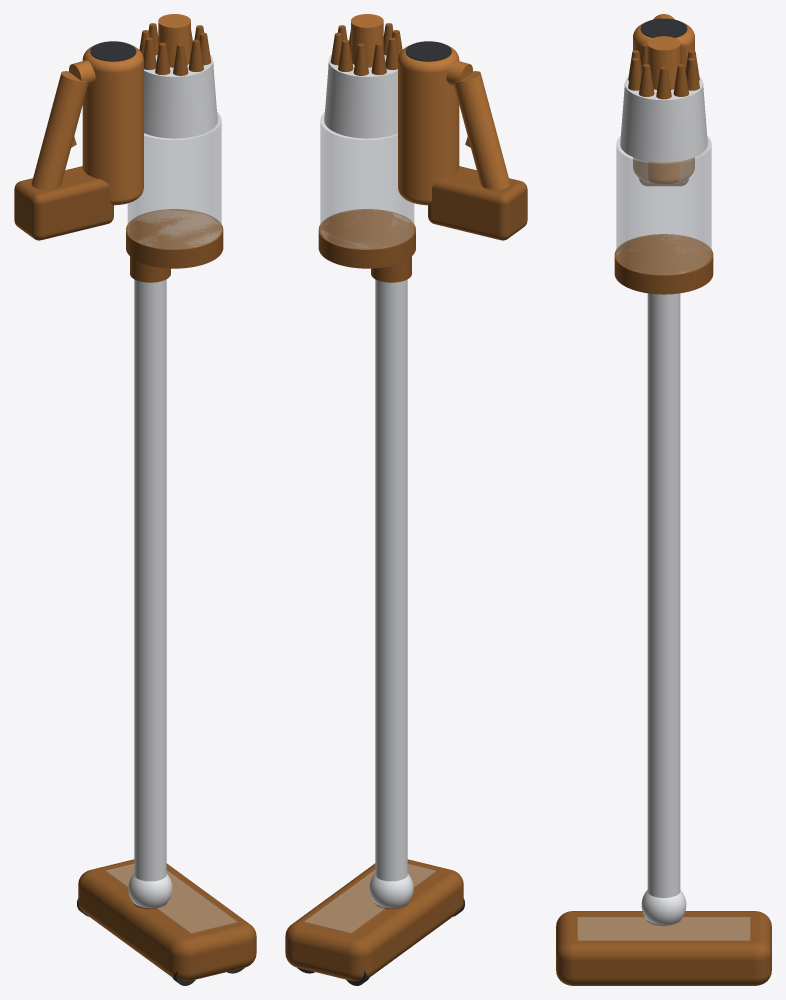
3 renders of one model, left to right at view 1: azimuth 30°, elevation 25°; view 2: azimuth 150°, elevation 25°; view 3: azimuth 270°, elevation 25°, orthographic.
Parts seen in each view (by area): view 1: metal.2, accent.1, clear.2, body.2, accent.40, metal.3, accent.4, body.3, clear.1, body.1, accent.3, metal.1 (+1 smaller); view 2: metal.2, accent.1, clear.2, body.2, accent.40, metal.3, accent.4, body.3, clear.1, body.1, accent.3, metal.1 (+1 smaller); view 3: metal.2, accent.1, clear.2, metal.3, accent.4, clear.1, body.2, body.1, metal.1, coat.1.
Part boxes in pixels (x1,y1,x2,y2): metal.2: (134, 279, 166, 881); accent.1: (78, 859, 256, 981); clear.2: (127, 112, 221, 248); body.2: (82, 45, 143, 205); accent.40: (14, 166, 113, 240); metal.3: (144, 54, 217, 138); accent.4: (126, 209, 223, 268); body.3: (31, 71, 87, 189); clear.1: (106, 864, 237, 933); body.1: (158, 14, 190, 67); accent.3: (130, 227, 170, 282); metal.1: (128, 873, 172, 908); metal.2: (375, 279, 407, 881); accent.1: (285, 859, 463, 981); clear.2: (320, 112, 414, 249); body.2: (398, 45, 459, 205); accent.40: (428, 166, 527, 240); metal.3: (324, 54, 397, 138); accent.4: (318, 209, 415, 268); body.3: (454, 71, 510, 189); clear.1: (304, 864, 435, 933); body.1: (351, 14, 383, 67); accent.3: (371, 227, 411, 282); metal.1: (369, 873, 413, 908); metal.2: (647, 293, 680, 897); accent.1: (556, 911, 771, 985); clear.2: (616, 136, 711, 274); metal.3: (620, 77, 707, 162); accent.4: (614, 234, 713, 294); clear.1: (578, 917, 749, 940); body.2: (633, 22, 694, 184); body.1: (647, 36, 680, 89); metal.1: (641, 890, 686, 924); coat.1: (640, 18, 687, 37).
Size of the model in its own units: 0.262 by 1.19 by 0.25.
